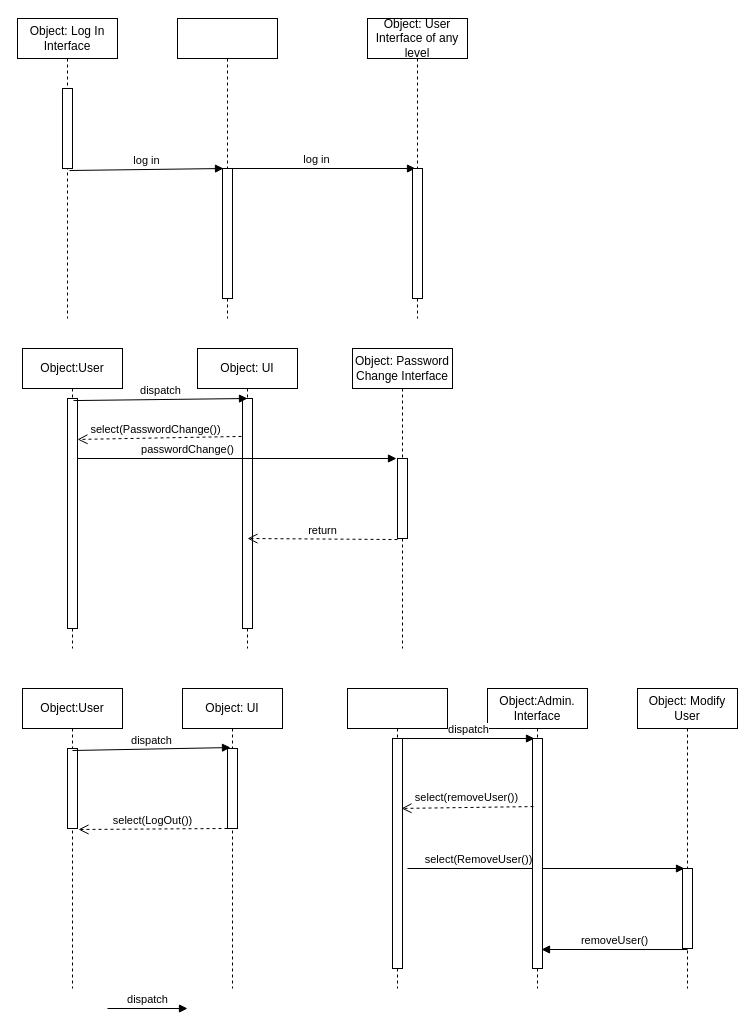
The diagram is 755 pixels wide and 1034 high, and some of its shapes have lost their labels. Each missing label, with the box of its shape:
Object: User of any level: (176, 18, 278, 318)
Object:Admin.: (346, 688, 448, 988)
